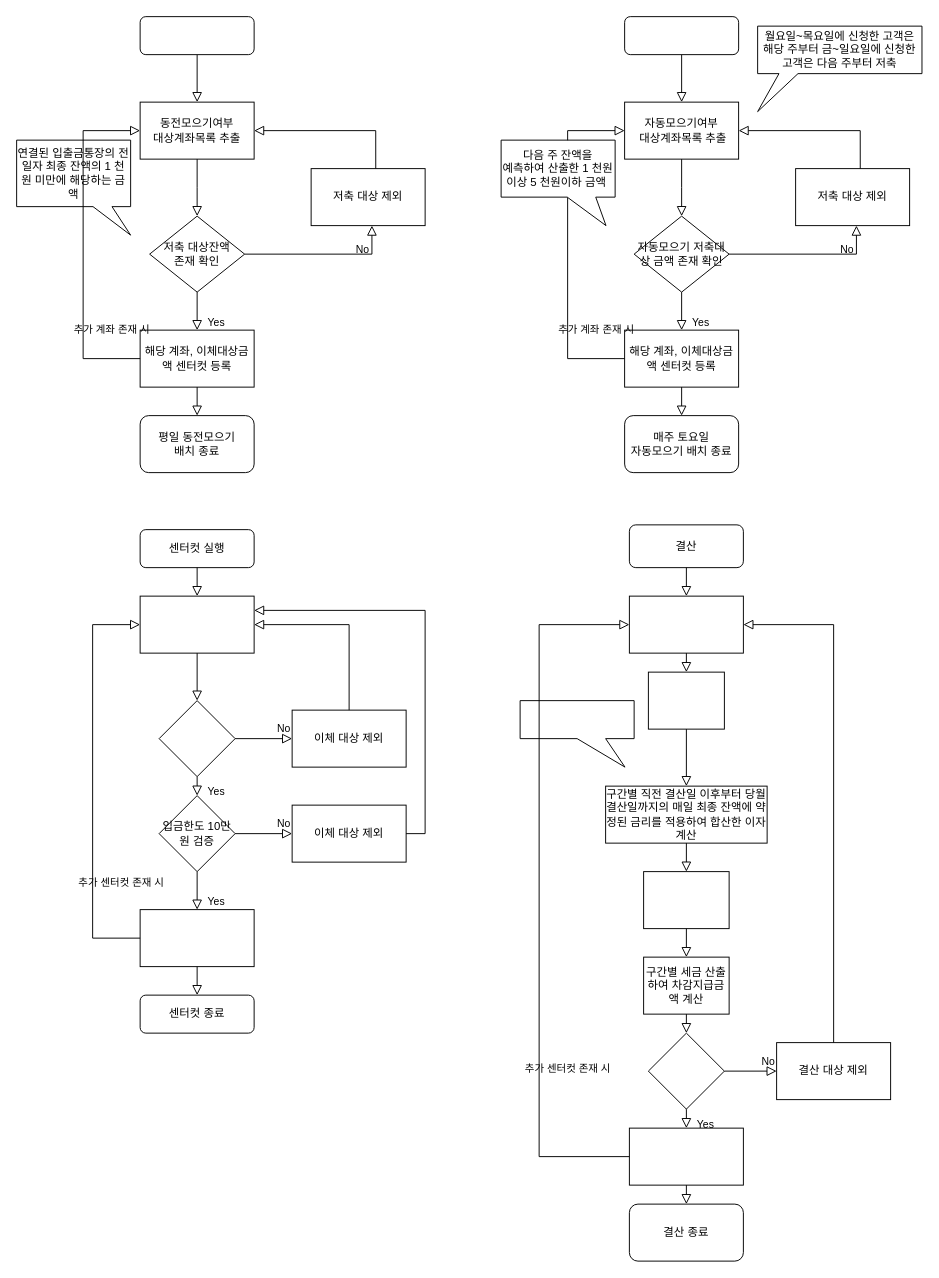
Image size: 939x1278. Some labels were removed from this diagram. The centre of each missing label's shape, as x and y in pixels:
"거래일별잔액을 통해 이자계산" belongs at [576,733].
"계좌 목록 추출" belongs at [685,624].
"기간별 금리조회" belongs at [685,700].
"기간별 세율 계산" belongs at [686,900].
"대상금액 지급가능잔액 검증" belongs at [196,738].
"매주 토요일 자동모으기 배치 기동" belongs at [681,35].
"센터컷 대상 추출" belongs at [196,624].
"이자금액 센터컷 등록" belongs at [685,1156].
"이자금액 존재" belongs at [685,1070].
"저금통으로 금액 이체" belongs at [196,938].
"평일 동전모으기 배치 기동" belongs at [196,35].
